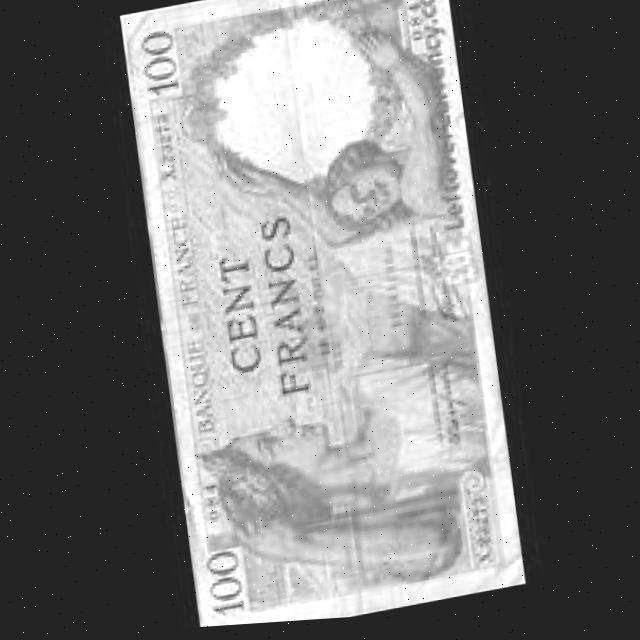banknote: (116, 0, 524, 634), (138, 23, 184, 102), (204, 549, 246, 624)
